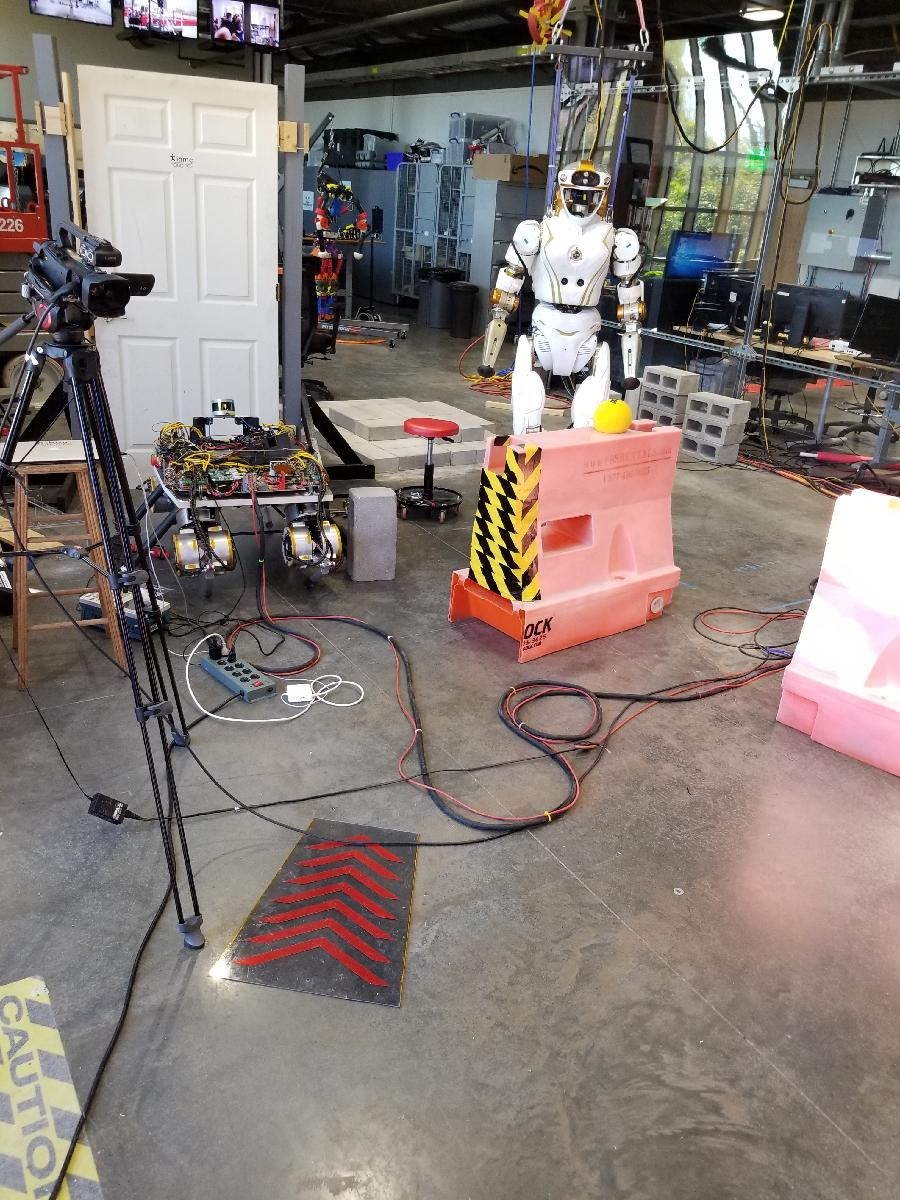door: (72, 60, 289, 519)
